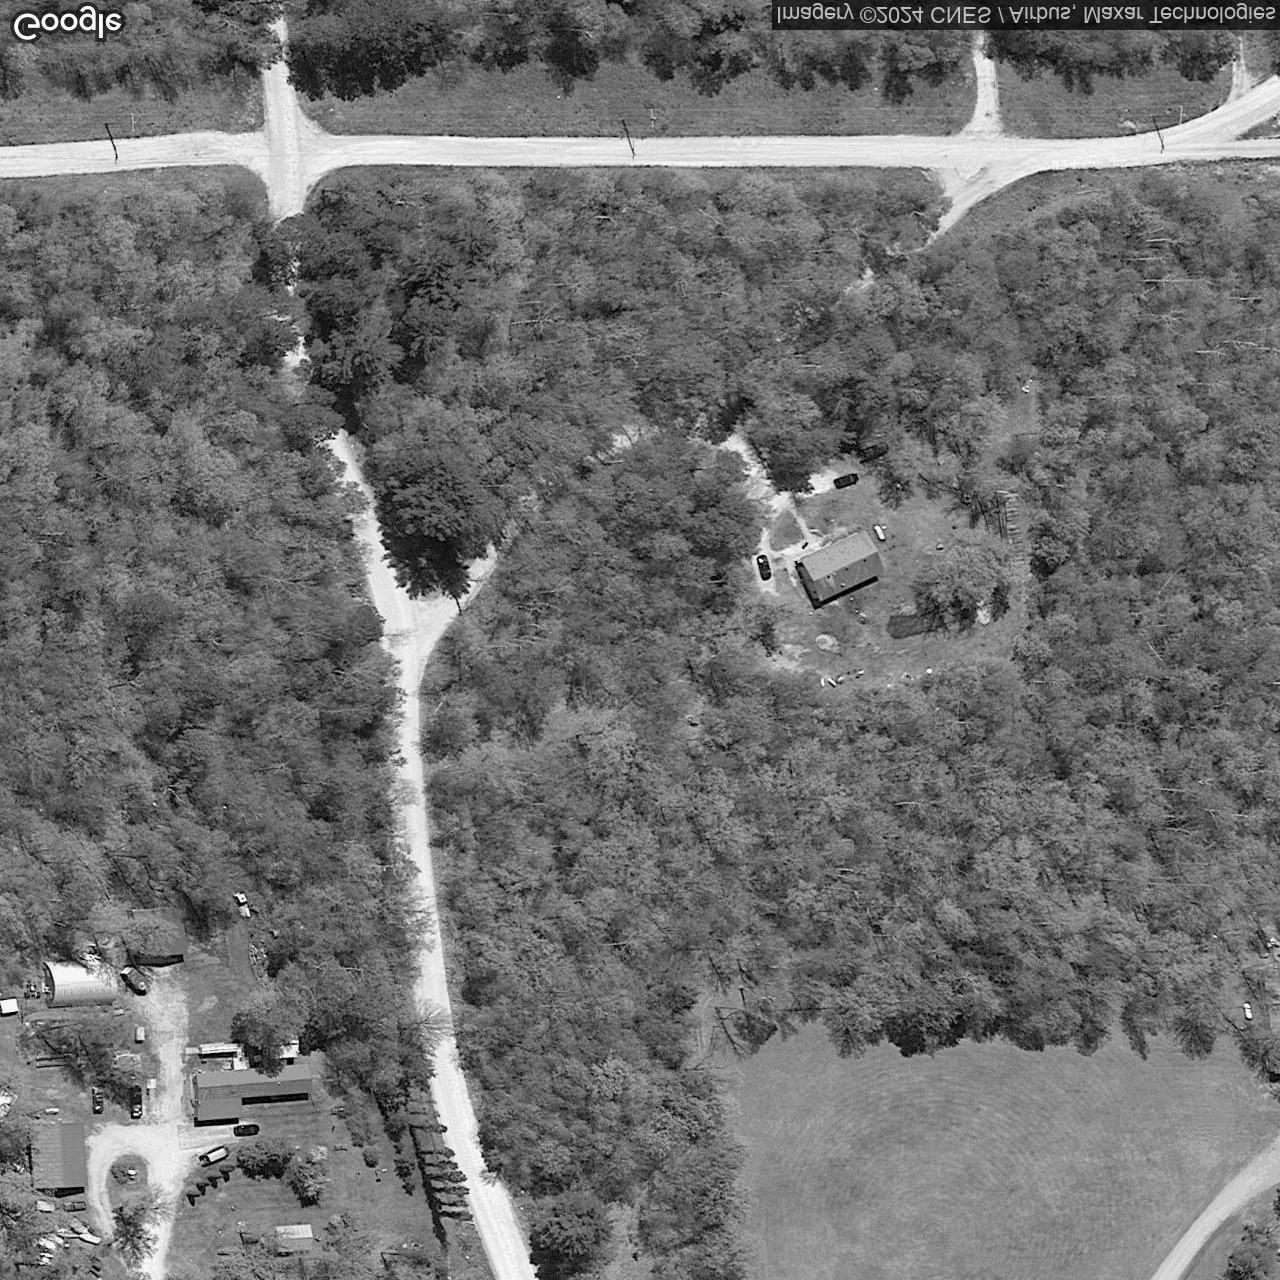Garage: (28, 1122, 90, 1192), (40, 956, 118, 1007), (130, 904, 190, 956)
House: (794, 530, 885, 607), (192, 1063, 314, 1121)
Propane: (872, 522, 888, 544), (43, 1107, 60, 1116)
